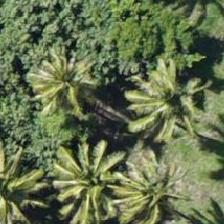coconut_tree: (124, 72, 214, 162), (36, 38, 126, 128), (54, 131, 144, 221), (127, 143, 217, 223)
